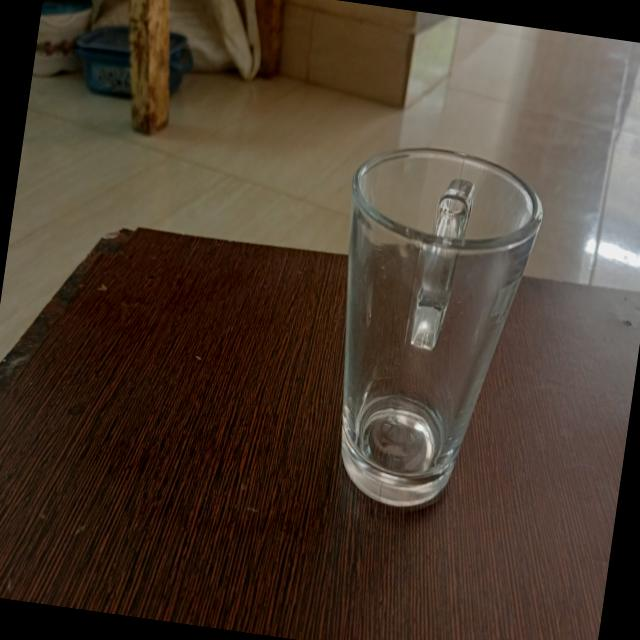glass-VX4N: (306, 135, 548, 520)
